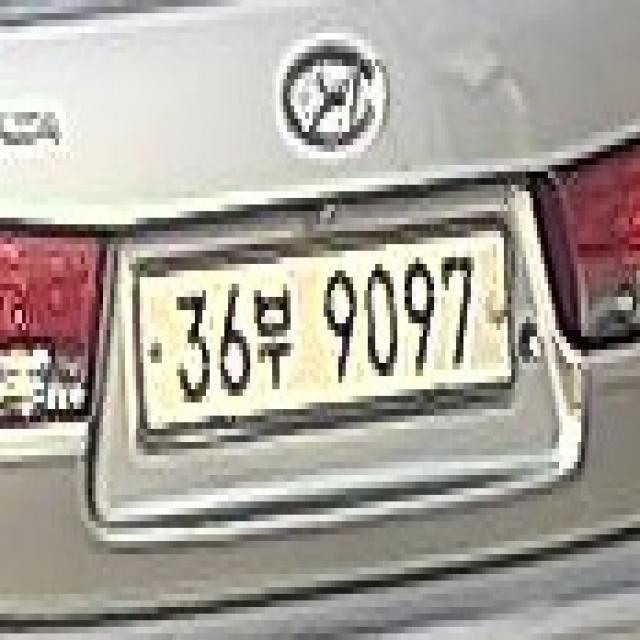0: (360, 250, 401, 382)
3: (173, 290, 210, 402)
6: (217, 284, 250, 396)
7: (438, 251, 478, 363)
9: (397, 250, 438, 370), (320, 264, 357, 383)
bu: (250, 277, 294, 396)
license_plate: (128, 211, 518, 442)
